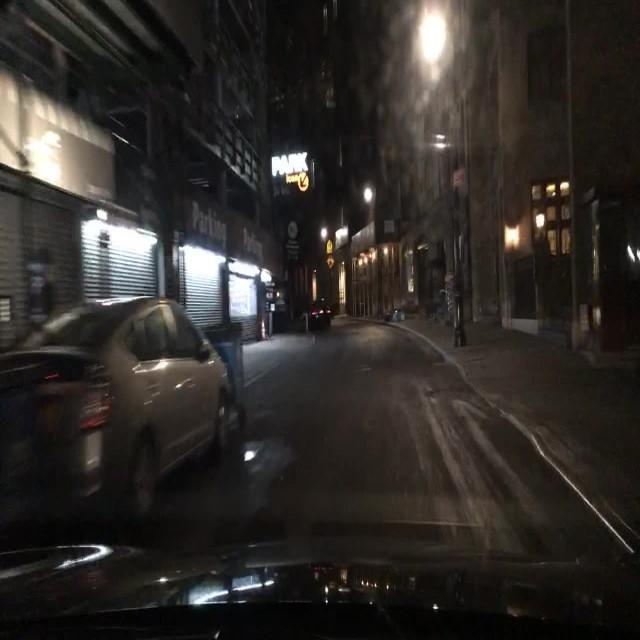normal: (0, 274, 260, 542)
